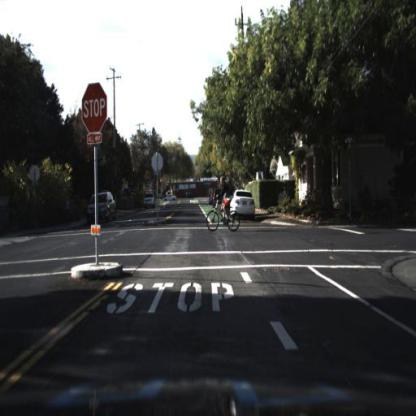biker: (208, 176, 238, 227)
car: (232, 189, 259, 220), (90, 192, 115, 222), (142, 192, 158, 211), (145, 190, 160, 210), (215, 189, 224, 210)
pedestrian: (63, 193, 75, 227), (65, 198, 73, 223)
